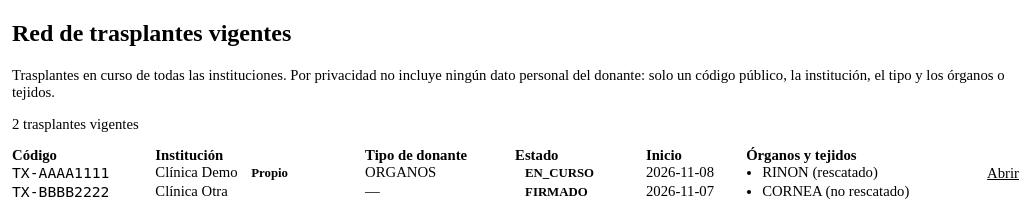
it: RedVigentesView › solo los casos propios traen el botón «Abrir» y llevan a su detalle
The width and height of the screenshot is (1036, 216).
Expected: the text "TX-AAAA1111" is shown, [12,164,110,181]
Click the button "Abrir". click: point(1003, 174)
box: [986,164,1020,183]
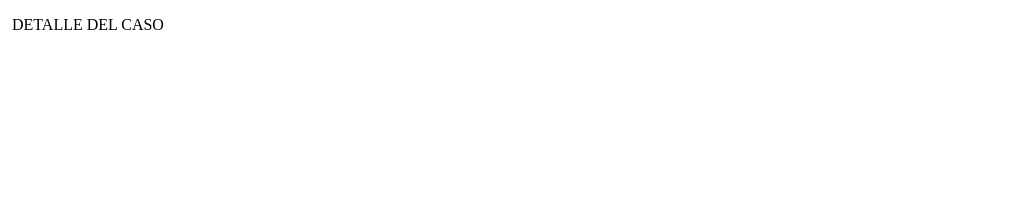
Expected: the text "DETALLE DEL CASO" is shown, [12,16,164,33]
